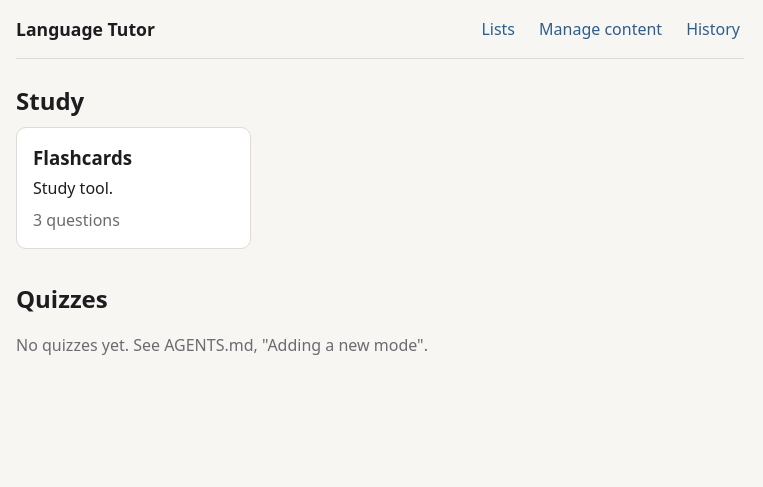
Test: App › History is reachable from the top bar and can repeat a session
Click the button "History": point(713, 29) [682,17,744,41]
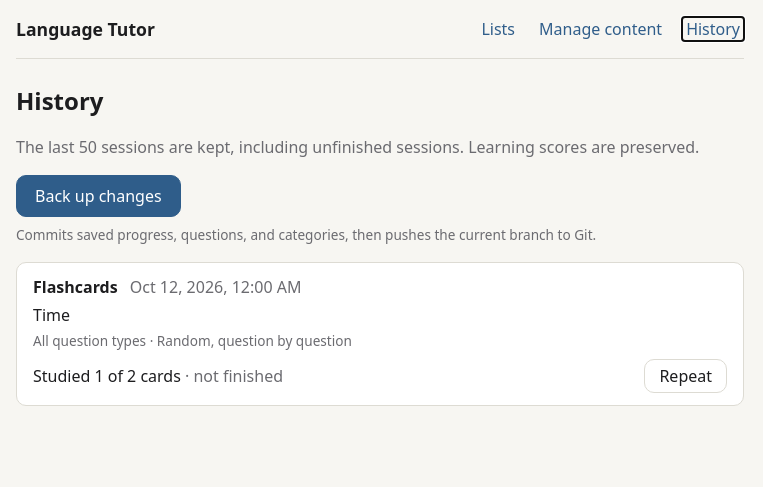
Click the button "Repeat": point(686, 376) [644,359,727,393]
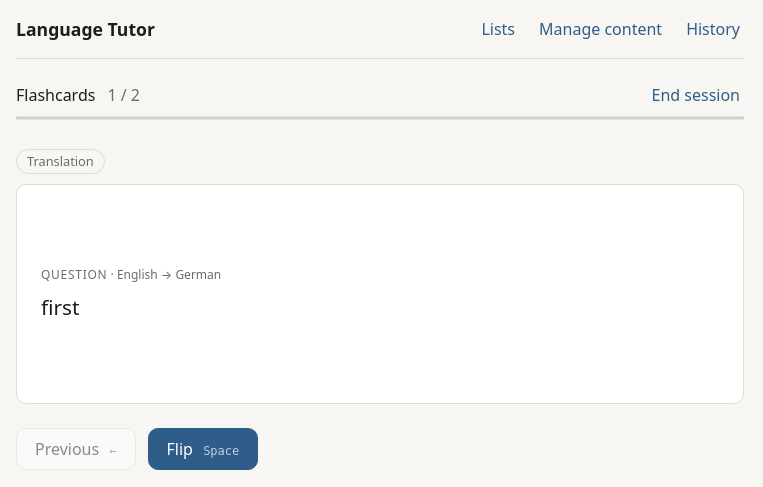
Expected: the text "1 / 2" is shown, [107,83,140,107]
